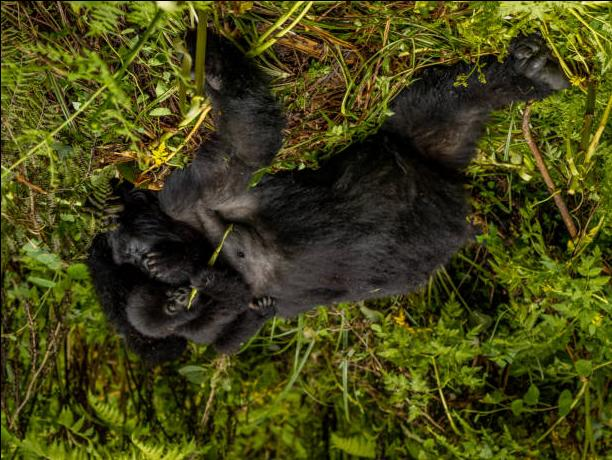goriile_montagne: (40, 12, 568, 376), (118, 236, 260, 354)
